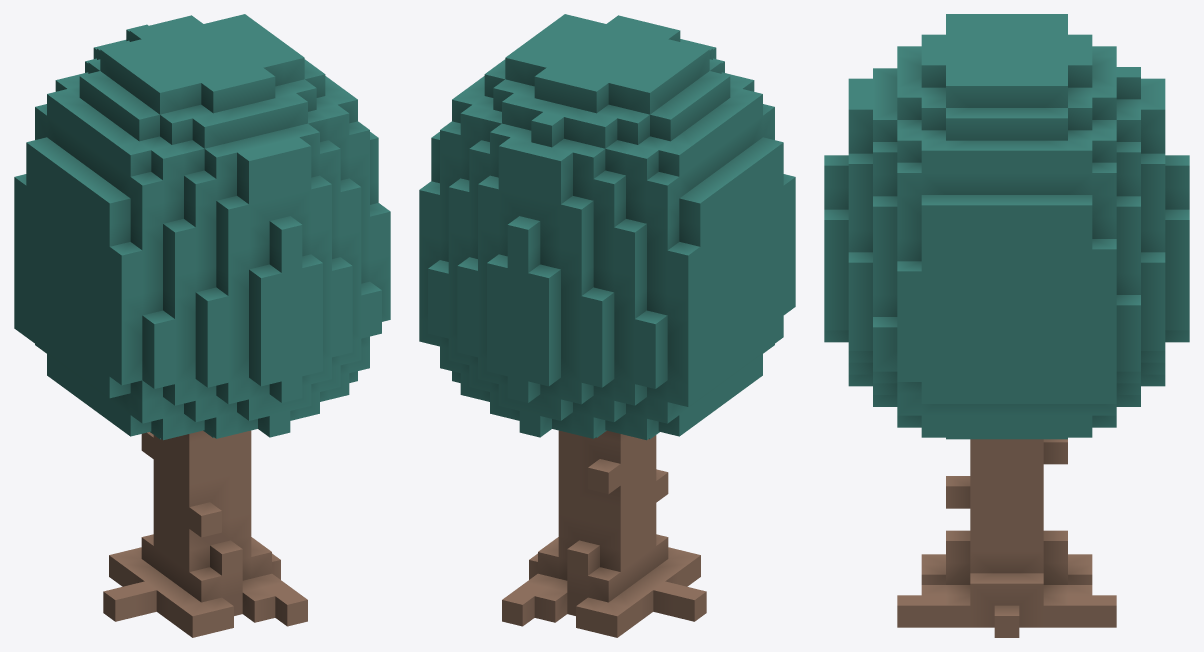
File: tree_oak.glb
3 views of the same model, side by side, from view 1: azimuth 30°, elevation 25°; view 2: azimuth 150°, elevation 25°; view 3: azimuth 270°, elevation 25° (orthographic).
Parts seen in each view (by area): view 1: voxels; view 2: voxels; view 3: voxels.
Part boxes in pixels (x1,y1,x2,y2): voxels: [14, 14, 390, 637]; voxels: [419, 14, 795, 637]; voxels: [824, 14, 1189, 637].
Size of the model in its own units: 0.6642 by 1.28 by 0.7665.
